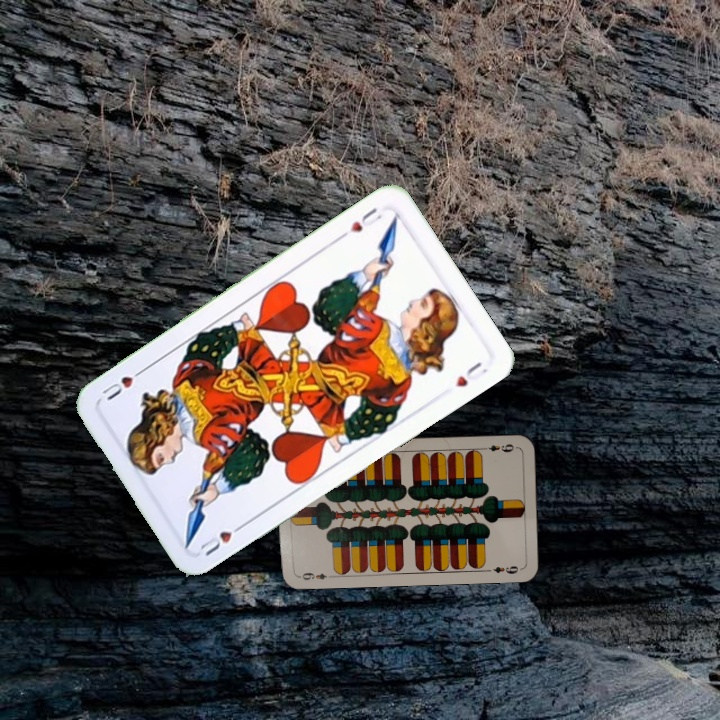E9: (478, 440, 518, 455), (294, 569, 334, 583)
HU: (194, 519, 249, 559), (335, 203, 385, 241)
